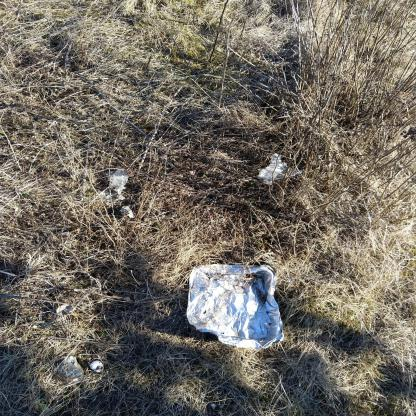metal: (186, 264, 286, 349)
